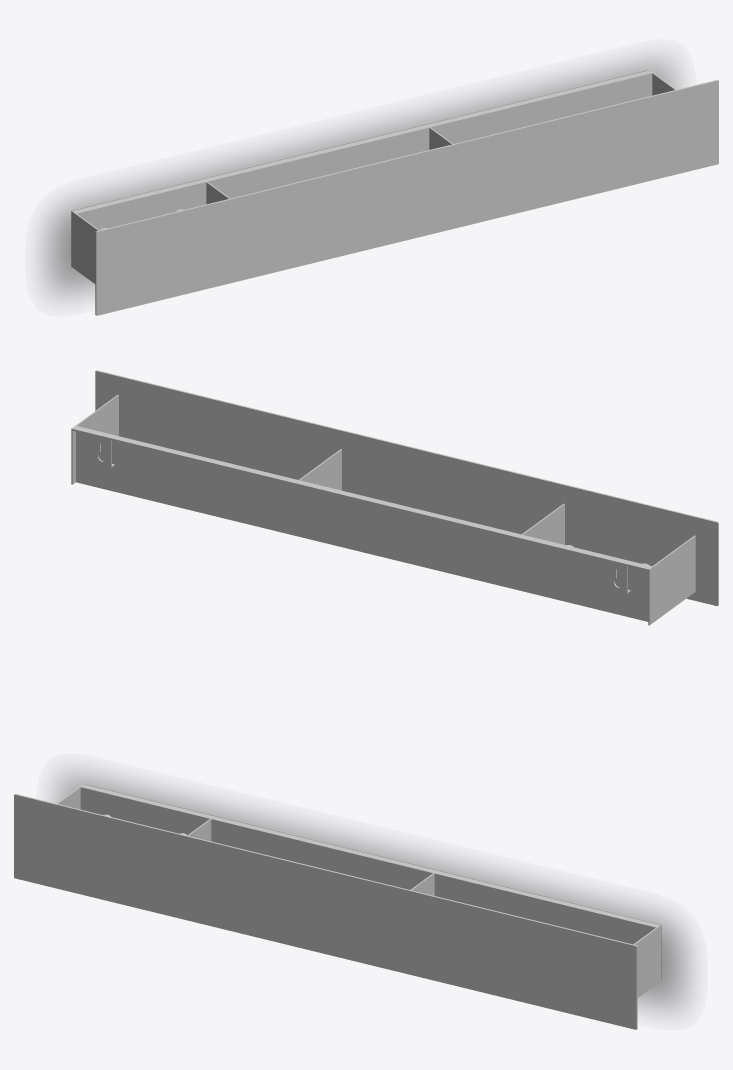
The model's file is skyline-patron.33a4950c1e.ar.glb.
3 renders of one model, top to bottom at view 1: azimuth 30°, elevation 25°; view 2: azimuth 150°, elevation 25°; view 3: azimuth 330°, elevation 25°, orthographic.
Visible parts, largest first — view 1: NAUO1, object 2; view 2: NAUO1; view 3: NAUO1, object 2.
Part boxes in pixels (x1,y1,x2,y2): NAUO1: (71, 70, 718, 315); object 2: (42, 59, 678, 296); NAUO1: (71, 370, 718, 625); NAUO1: (14, 784, 661, 1029); object 2: (54, 773, 690, 1010).
Bounding box in the file's own units: 0.78 × 0.17 × 0.092.
Materials: 2 (1 with a texture image).
